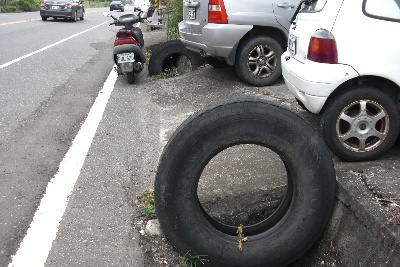tire: (153, 96, 338, 267)
